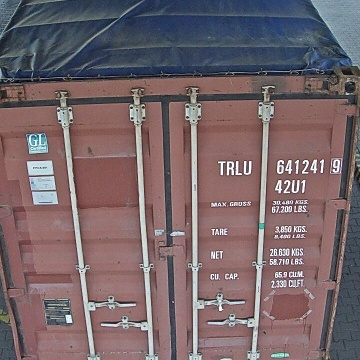serial_id: (218, 158, 341, 175)
